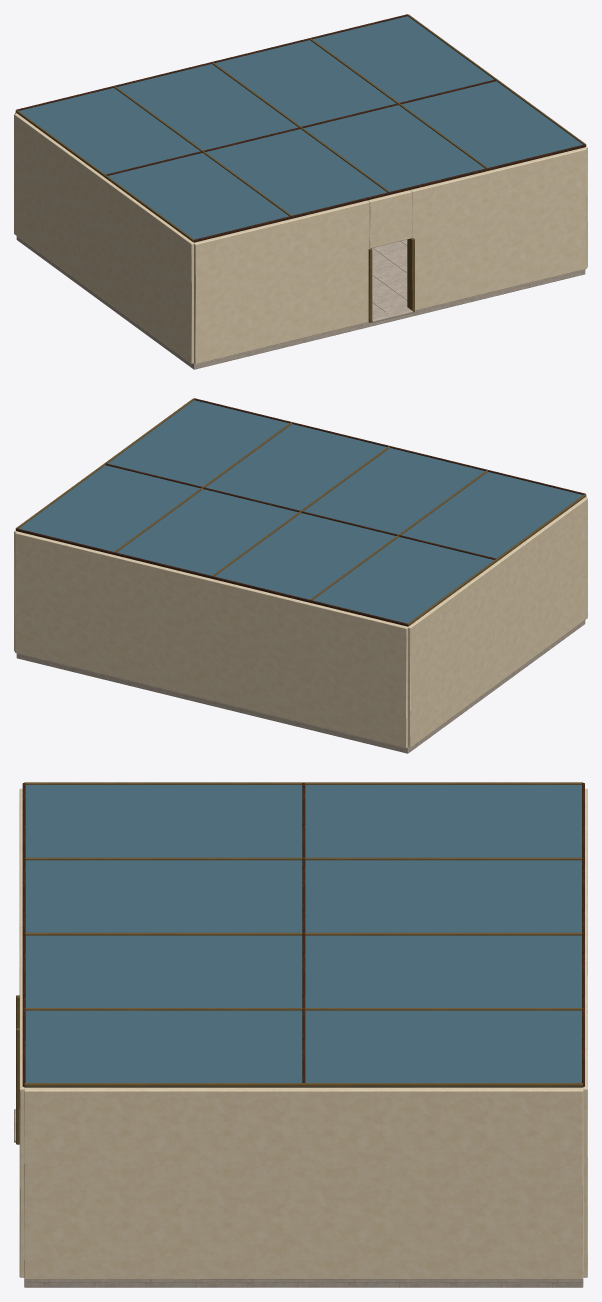
Rendered from hotel_indoor_garden.glb.
3 renders of one model, top to bottom at view 1: azimuth 30°, elevation 25°; view 2: azimuth 150°, elevation 25°; view 3: azimuth 270°, elevation 25°, orthographic. The views are drawn at different scales.
Parts seen in each view (by area): view 1: Rebuilt_hotel_indoor_garden; view 2: Rebuilt_hotel_indoor_garden; view 3: Rebuilt_hotel_indoor_garden.
Part boxes in pixels (bbox=[...]): Rebuilt_hotel_indoor_garden: bbox=[14, 14, 587, 369]; Rebuilt_hotel_indoor_garden: bbox=[14, 398, 587, 753]; Rebuilt_hotel_indoor_garden: bbox=[14, 782, 587, 1287].
Bounding box in the file's own units: 14.18 × 4.44 × 11.29.
13 materials, 11 textured.
